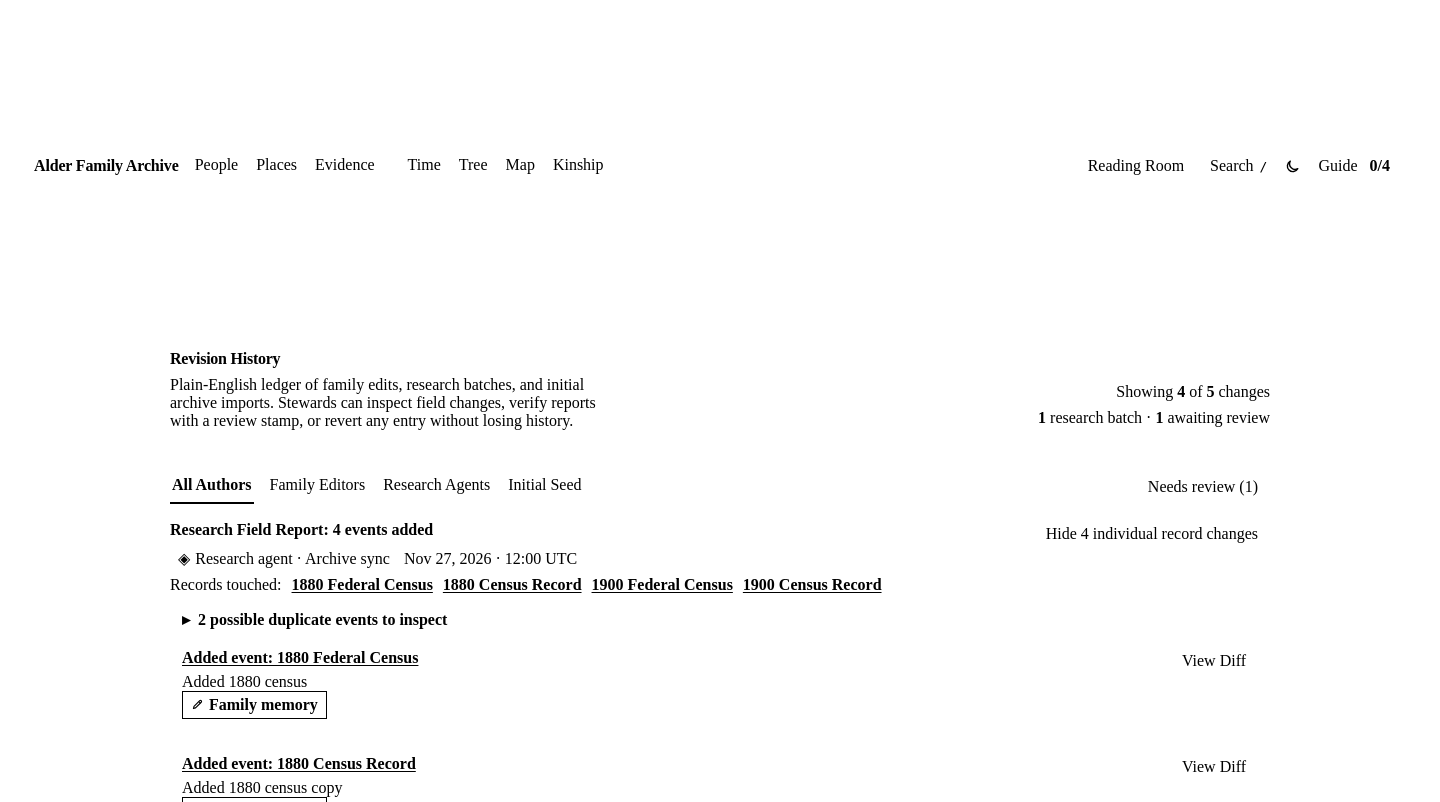
it: Issue #112 — /changes duplicate warning collapse, pagination, and agent author formatting › collapses multiple duplicate warnings behind a single disclosure button and supports pagination
Expected: the text "Possible duplicate event detected:" is not shown
Click the button "▸ 2 possible duplicate events to inspect" at (315, 620), box [170,604,459,635]
(page scrolled)
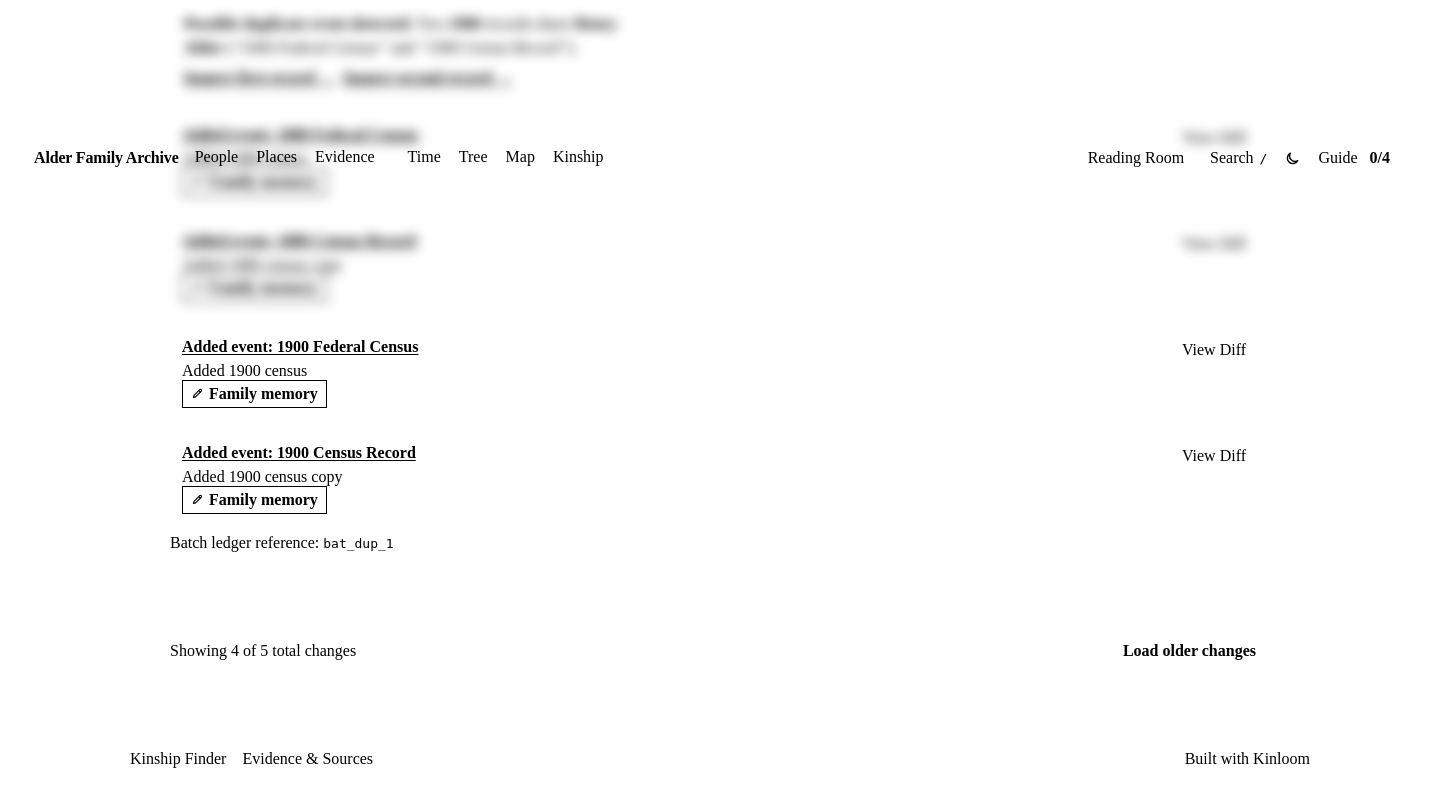
Result: the text "Possible duplicate event detected:" is shown at [184,15,413,32]
Click the button "Load older changes" at (1189, 651), box [1109,636,1270,666]
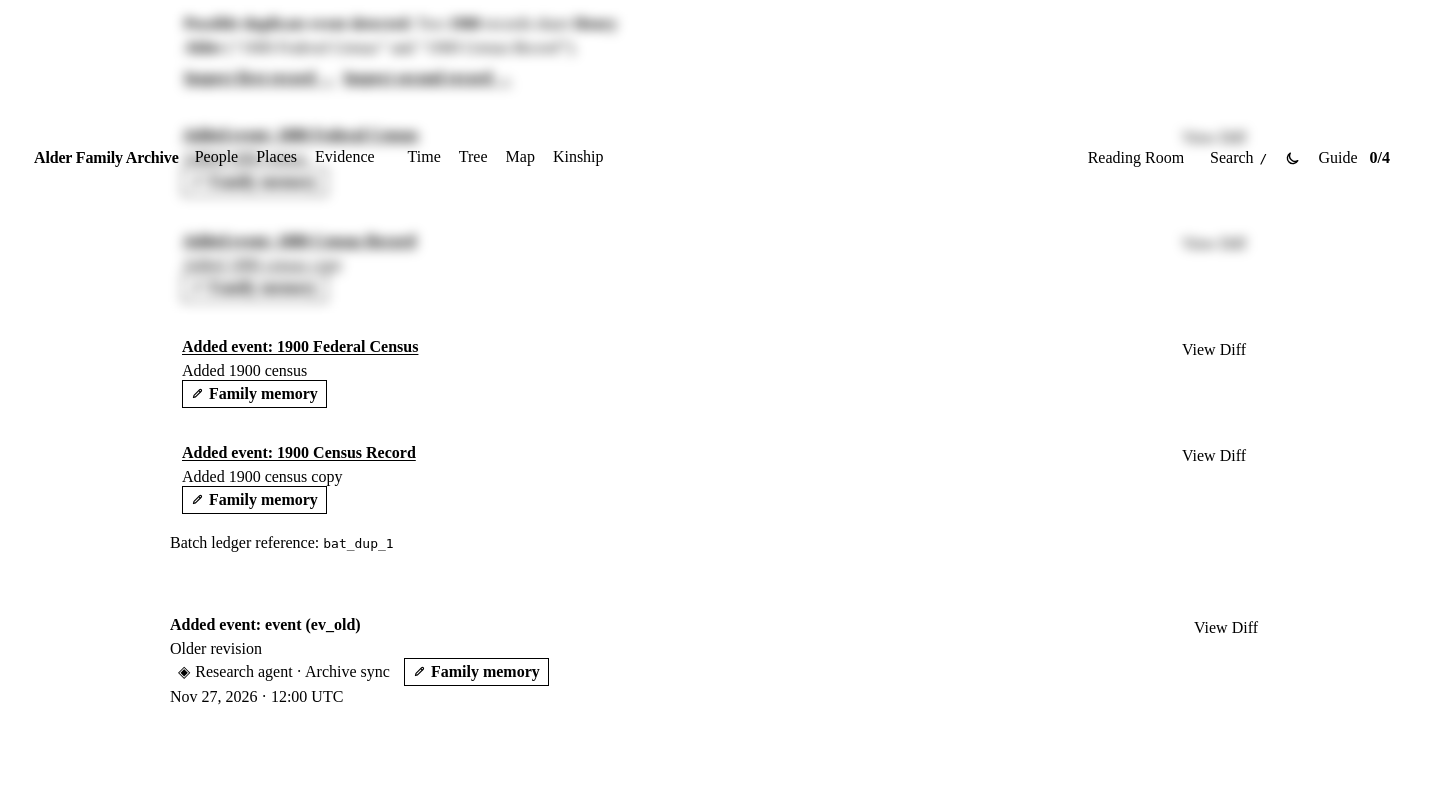
Result: the text "Older revision" is shown at [170,640,262,657]
